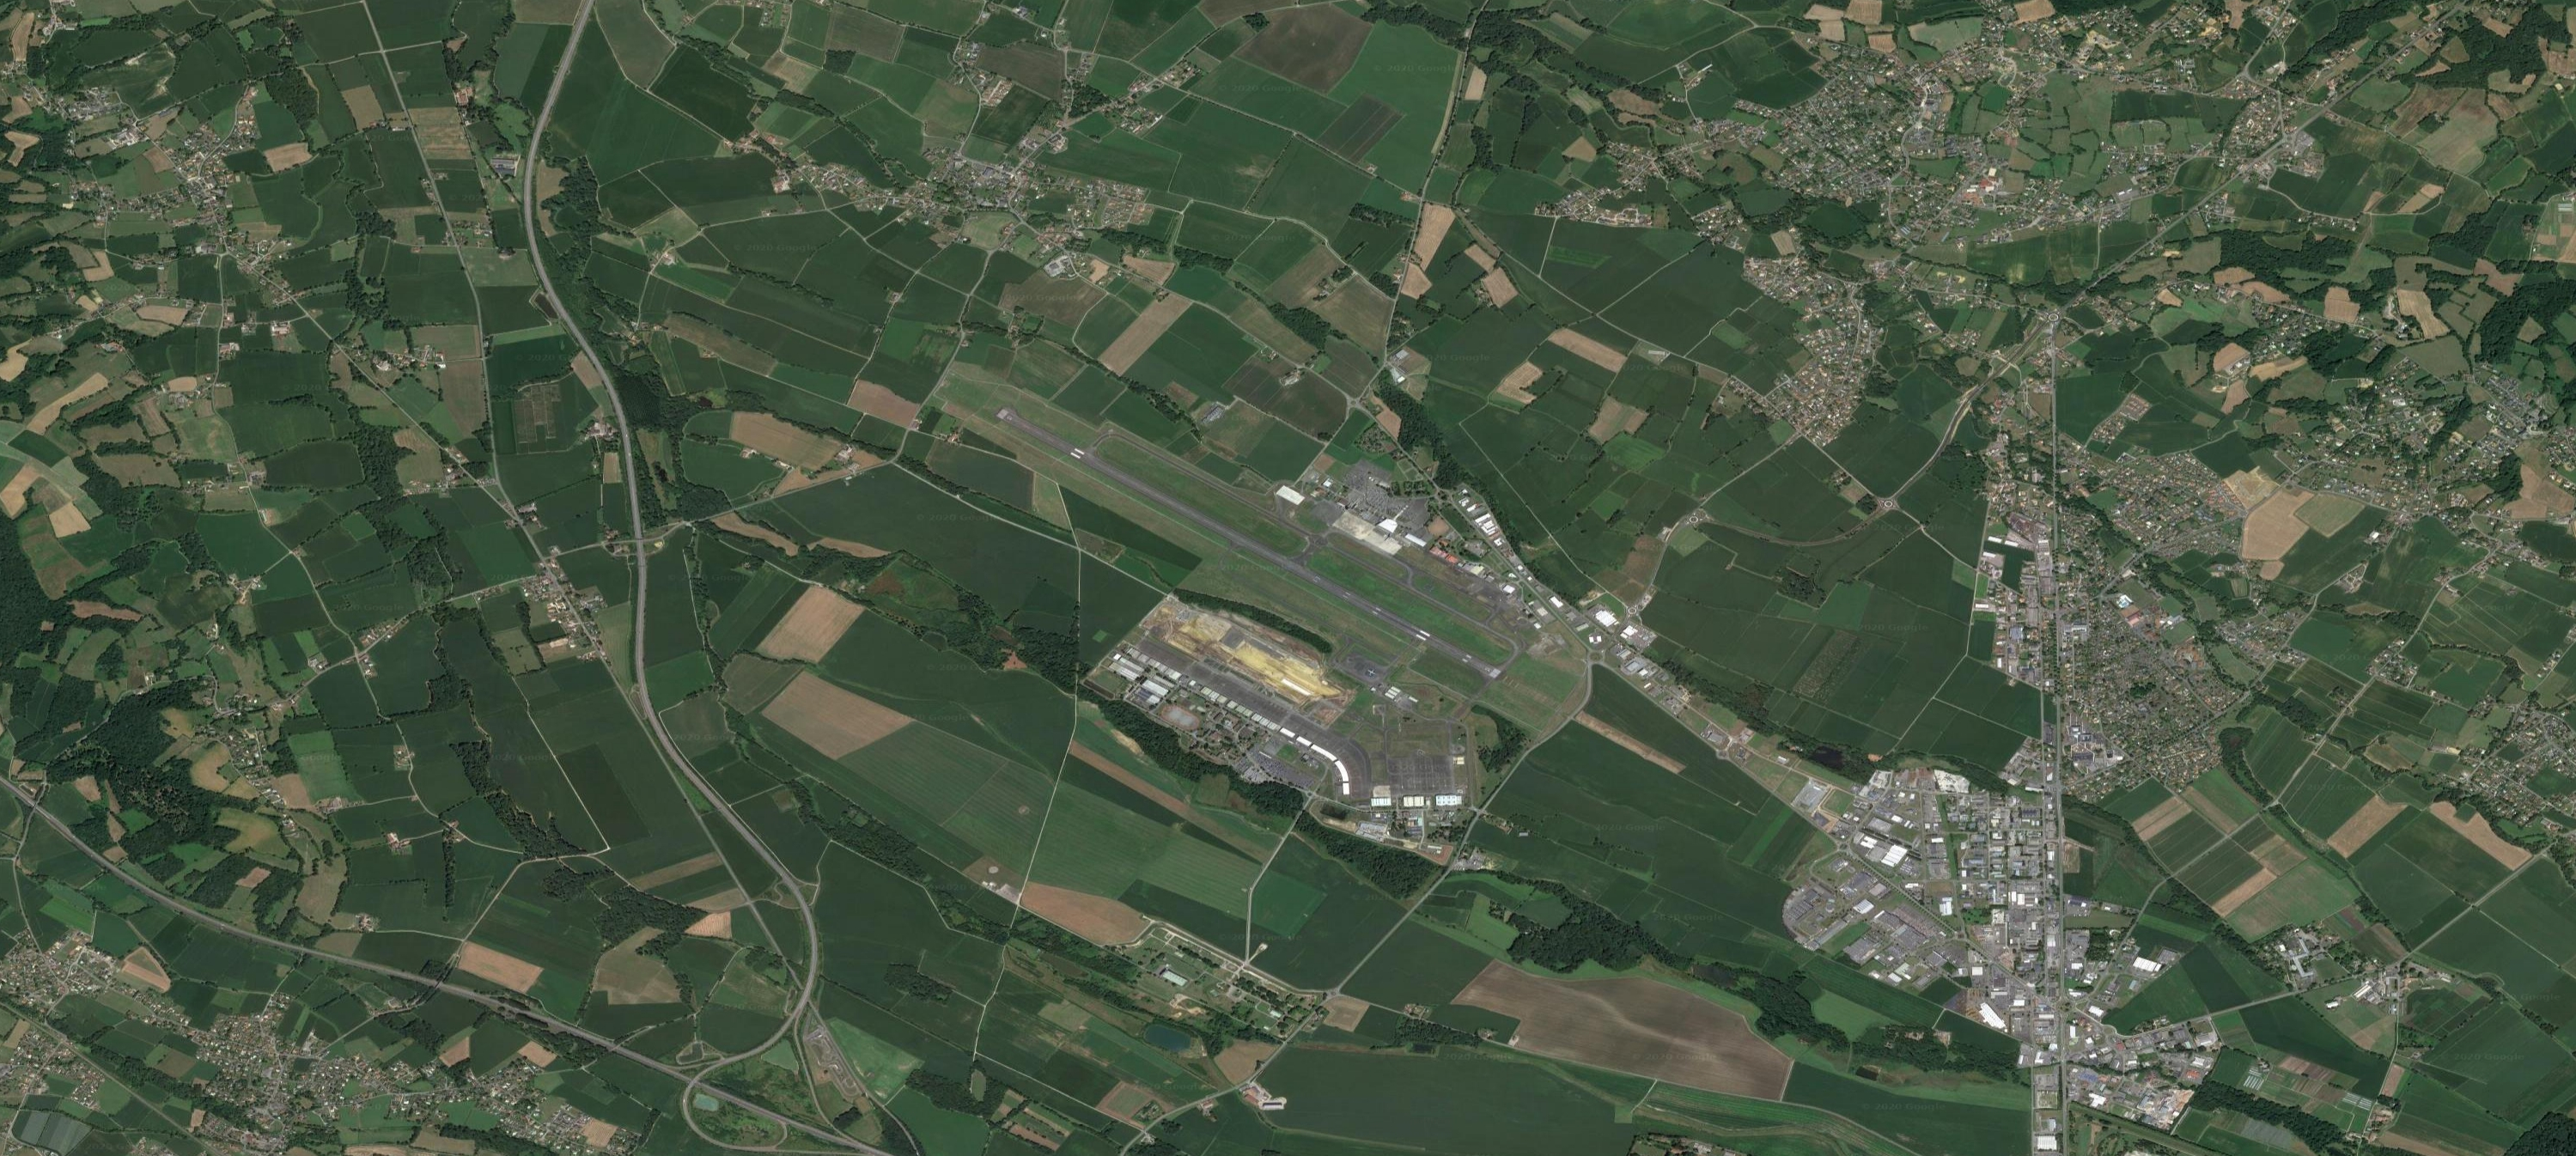airport: (991, 399, 1526, 814)
motorway: (493, 997, 702, 1087), (2, 778, 153, 890), (292, 946, 509, 1011), (647, 716, 746, 839), (741, 823, 817, 975), (677, 1074, 808, 1156), (711, 975, 817, 1071), (153, 887, 304, 952), (521, 233, 593, 350), (626, 483, 655, 713), (587, 345, 633, 486), (537, 2, 593, 103), (519, 99, 560, 233)
